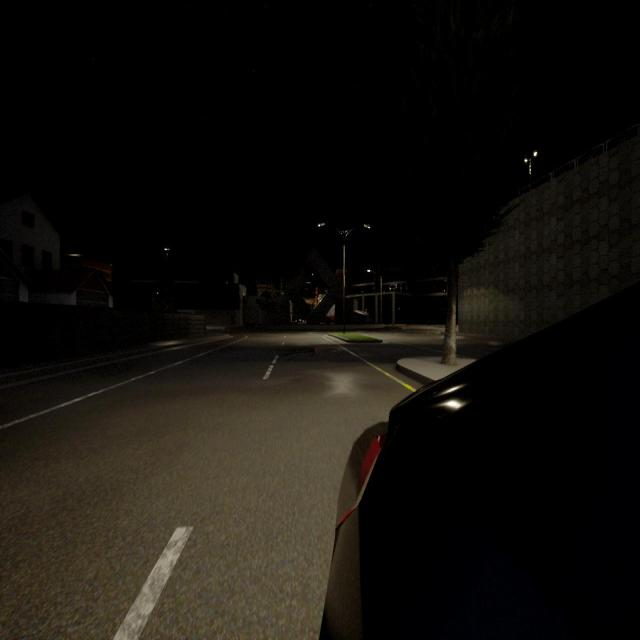Vehicle: (320, 282, 640, 637)
